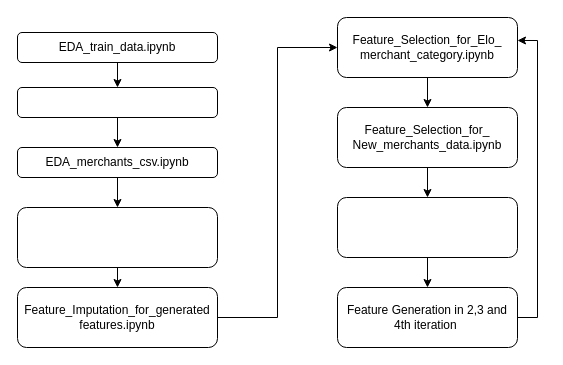
The diagram is 563 pixels wide and 365 high, and some of its shapes have lost their labels. The centre of each missing label's shape, as x and y in pixels:
"EDA_historical_transactions.ipynb" goes at (x=117, y=102).
"Feature_transformation_on _train_data.ipynb" goes at (x=117, y=237).
"Hyper_parameter_ selection.ipynb" goes at (x=427, y=227).
